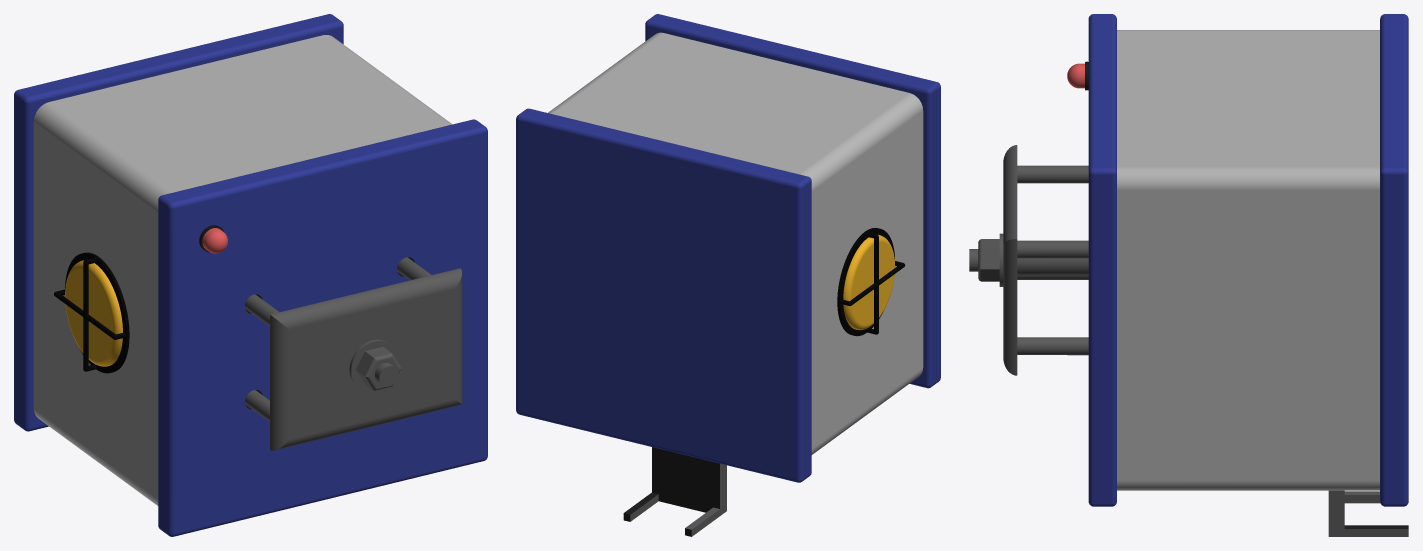
File: Fabric low poly v3.fbx
3 renders of one model, left to right at view 1: azimuth 30°, elevation 25°; view 2: azimuth 150°, elevation 25°; view 3: azimuth 270°, elevation 25°, orthographic. The views are drawn at different scales.
Visible parts, largest first — view 1: Base, Press, light, window; view 2: Base, light, window; view 3: Base, Press.
Boxes of the visible parts, <box> form: Base: <box>14,14,487,536</box>; Press: <box>245,257,462,450</box>; light: <box>65,260,122,366</box>; window: <box>54,252,129,373</box>; Base: <box>516,14,940,536</box>; light: <box>843,234,895,330</box>; window: <box>837,228,905,336</box>; Base: <box>1085,14,1408,536</box>; Press: <box>969,145,1088,375</box>.
Size of the model in its own units: 1075 by 1325 by 1235.
